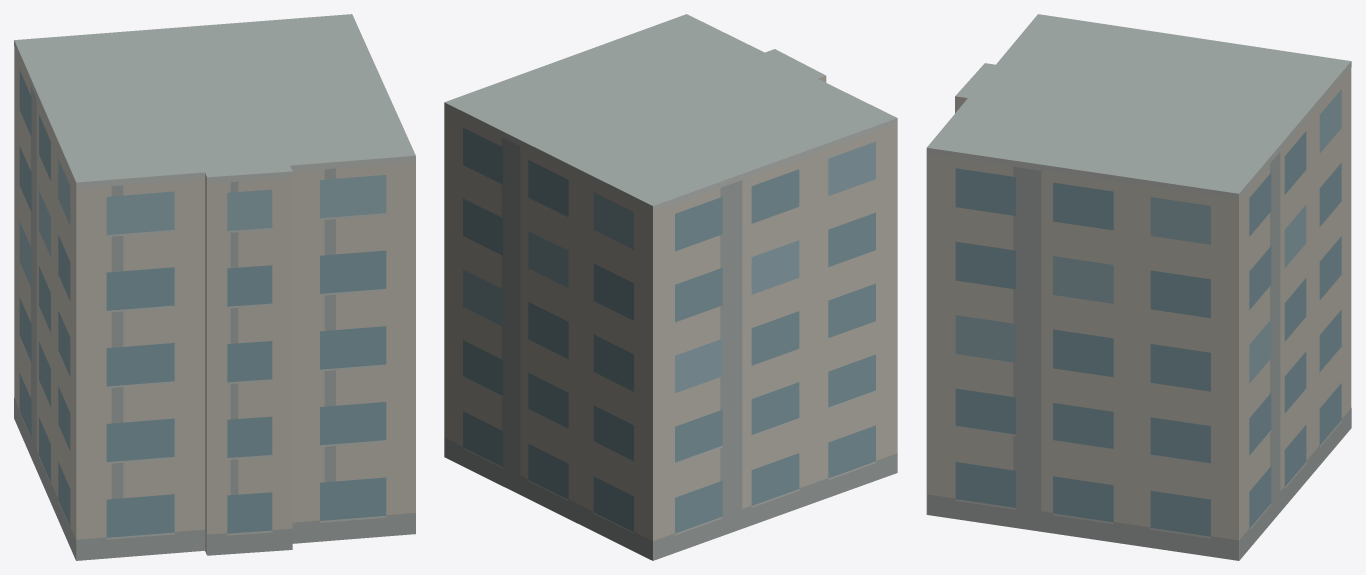
The model's file is survey-upis-32894366.glb.
3 renders of one model, left to right at view 1: azimuth 30°, elevation 25°; view 2: azimuth 150°, elevation 25°; view 3: azimuth 270°, elevation 25°, orthographic. The views are drawn at different scales.
Visible parts, largest first — view 1: survey-upis-32894366.tmp; view 2: survey-upis-32894366.tmp; view 3: survey-upis-32894366.tmp.
Part boxes in pixels (box(x1,y1,x2,y2)): survey-upis-32894366.tmp: box(14, 14, 415, 560); survey-upis-32894366.tmp: box(444, 14, 897, 560); survey-upis-32894366.tmp: box(926, 14, 1351, 560).
Bounding box in the file's own units: 14.92 × 14.2 × 14.9.
